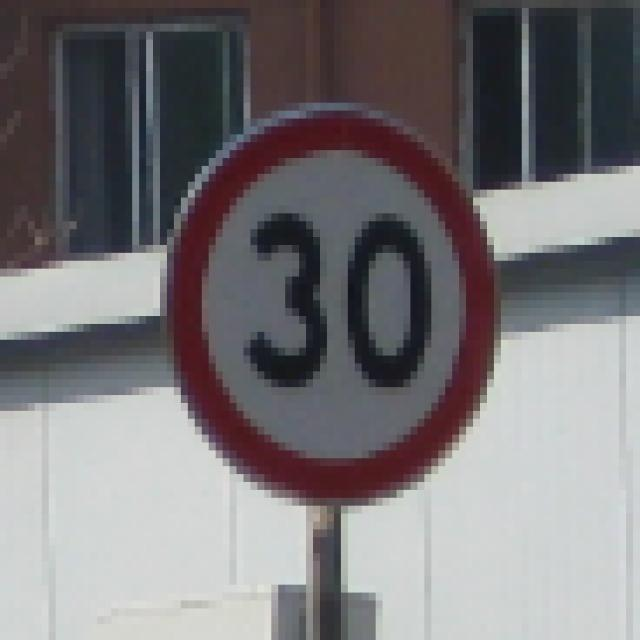Speed: (154, 94, 522, 532)
